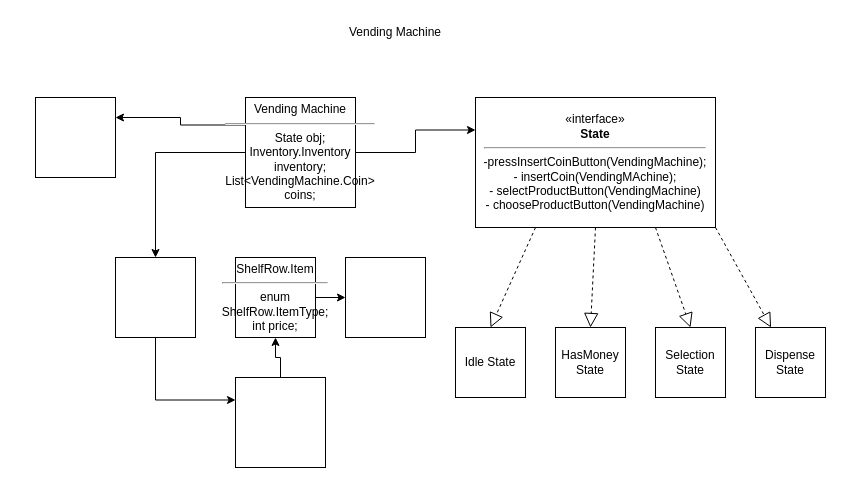
Image size: 843x485. Some labels were removed from this diagram. The shapes that lost their labels are listed below. From the top down, each one's box as (x1, y1, x2, y2) in pixels, then its label:
(34, 96, 116, 178): enum VendingMachine.Coin { - ONE, - TWO, etc.
(114, 256, 196, 338): Inventory.Inventory ShelfRow.ItemShelf [];
(344, 256, 426, 338): enum IntemType - COKE, - PEPSI, etc
(234, 376, 326, 468): ShelfRow.ItemShelf ShelfRow.Item item; int code; bool hasSoldOut;
